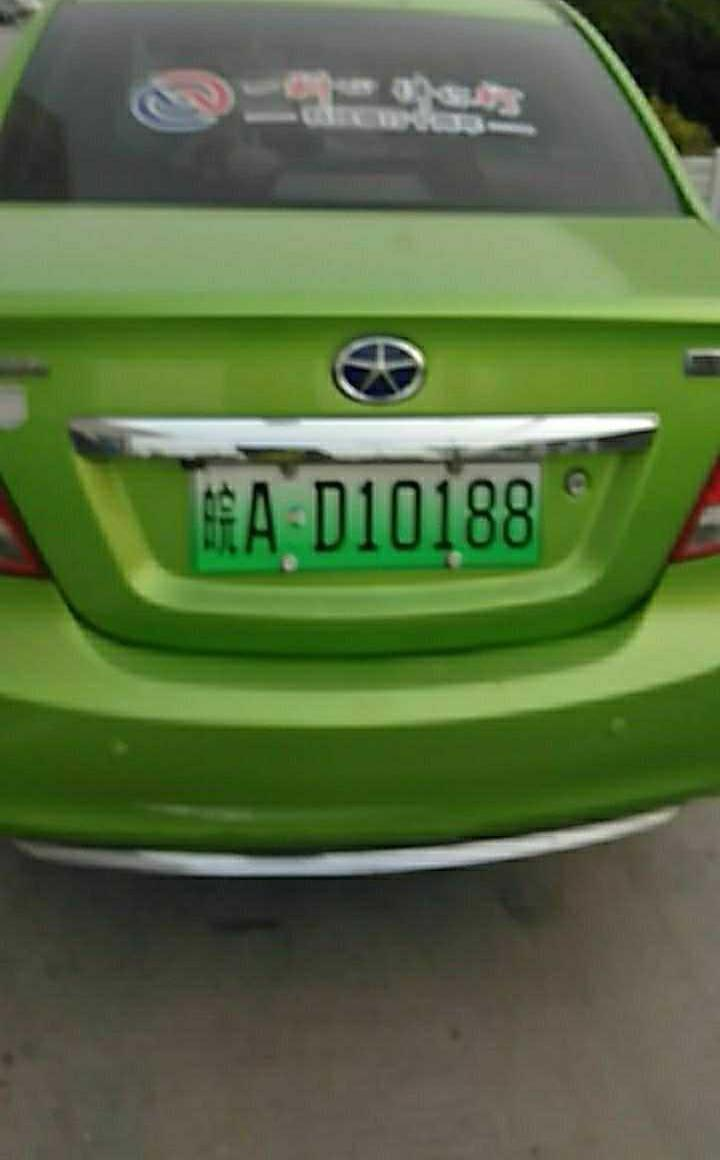car_id: (192, 462, 542, 571)
